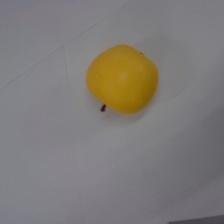yellow: (83, 41, 161, 117)
